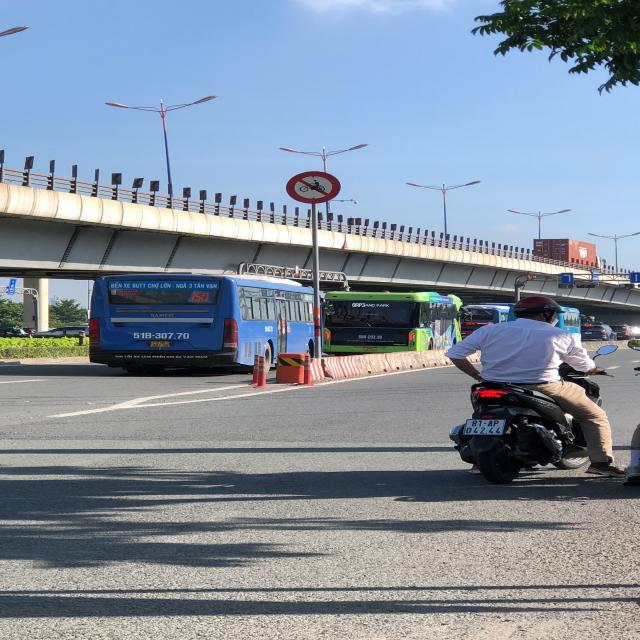Bien bao cam xe may: (280, 169, 346, 207)
